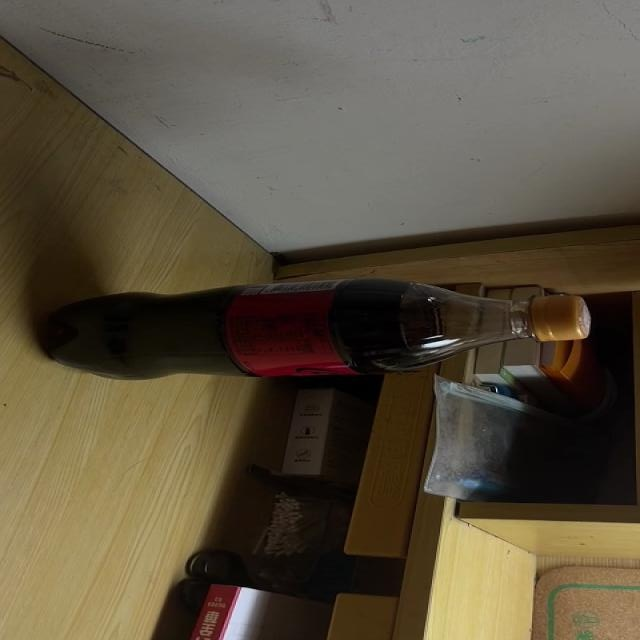Coca-Cola: (37, 276, 594, 382)
